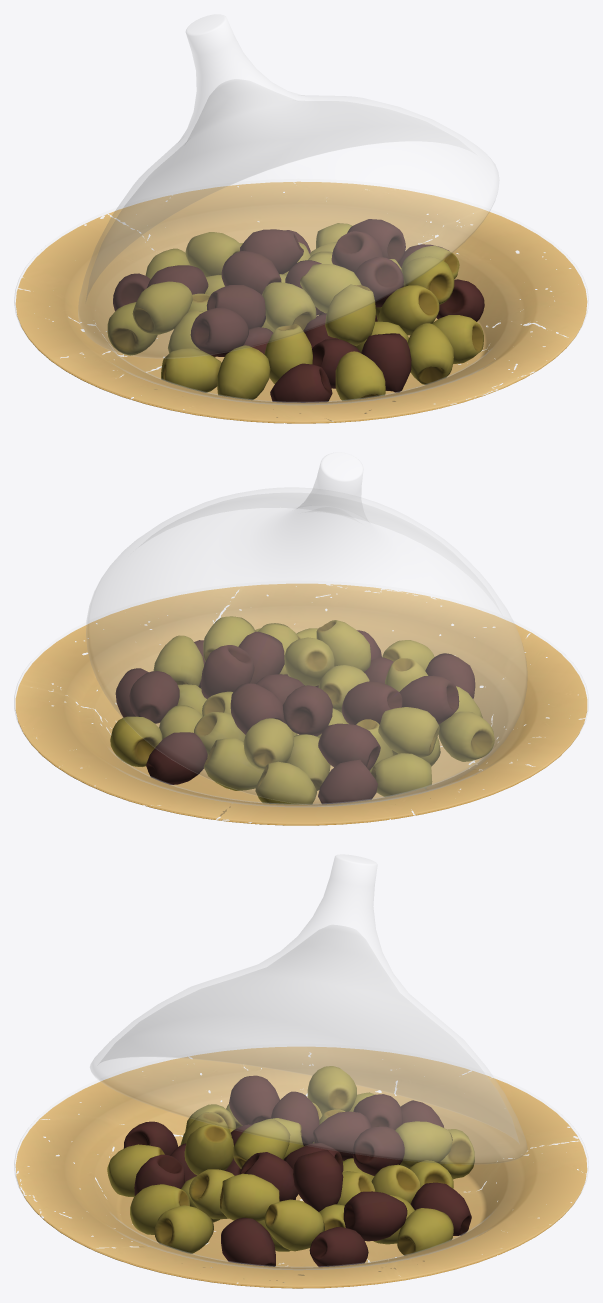
The model's file is IridescentDishWithOlives.glb.
The picture shows the model from 3 angles, top to bottom: view 1: azimuth 30°, elevation 25°; view 2: azimuth 150°, elevation 25°; view 3: azimuth 270°, elevation 25°; orthographic projection.
Visible parts, largest first — view 1: glassCover, goldLeaf, glassDish, olives; view 2: glassCover, glassDish, goldLeaf, olives; view 3: glassCover, goldLeaf, olives, glassDish.
Boxes of the visible parts, x1,y1,x2,y2 form: glassCover: [78, 14, 499, 358]; goldLeaf: [15, 181, 587, 423]; glassDish: [14, 179, 588, 422]; olives: [107, 219, 484, 402]; glassCover: [86, 452, 527, 805]; glassDish: [14, 581, 588, 824]; goldLeaf: [15, 583, 587, 825]; olives: [110, 616, 494, 804]; glassCover: [90, 854, 527, 1164]; goldLeaf: [15, 1047, 587, 1288]; olives: [107, 1066, 474, 1267]; glassDish: [14, 1057, 588, 1287].
Bounding box in the file's own units: 0.4593 × 0.2855 × 0.4593.
4 materials, 2 textured.
